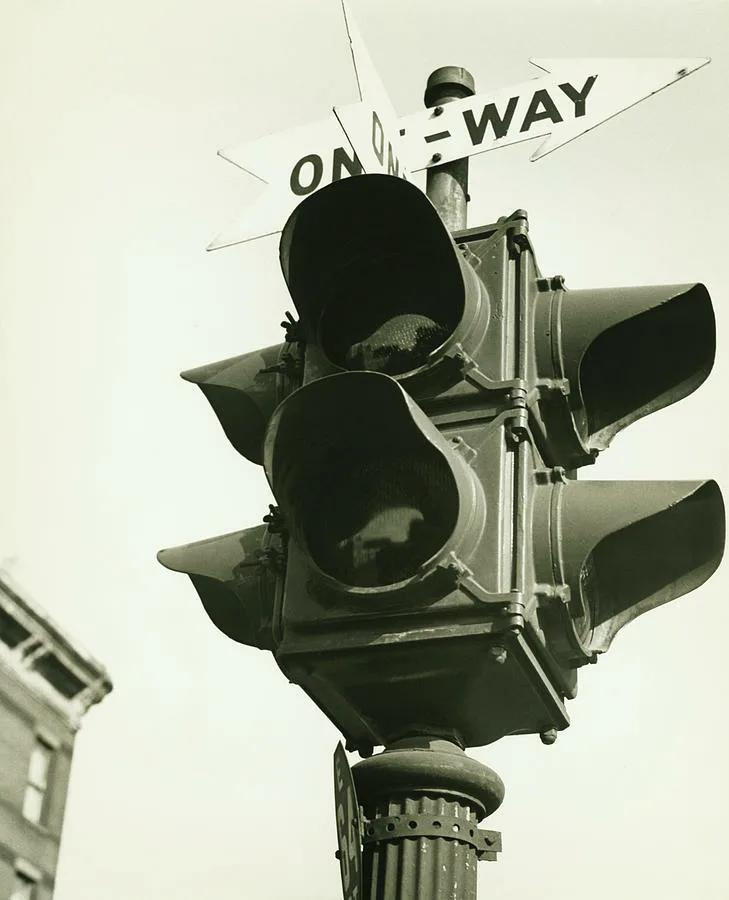off traffic light: (264, 175, 531, 656), (525, 252, 728, 704)
